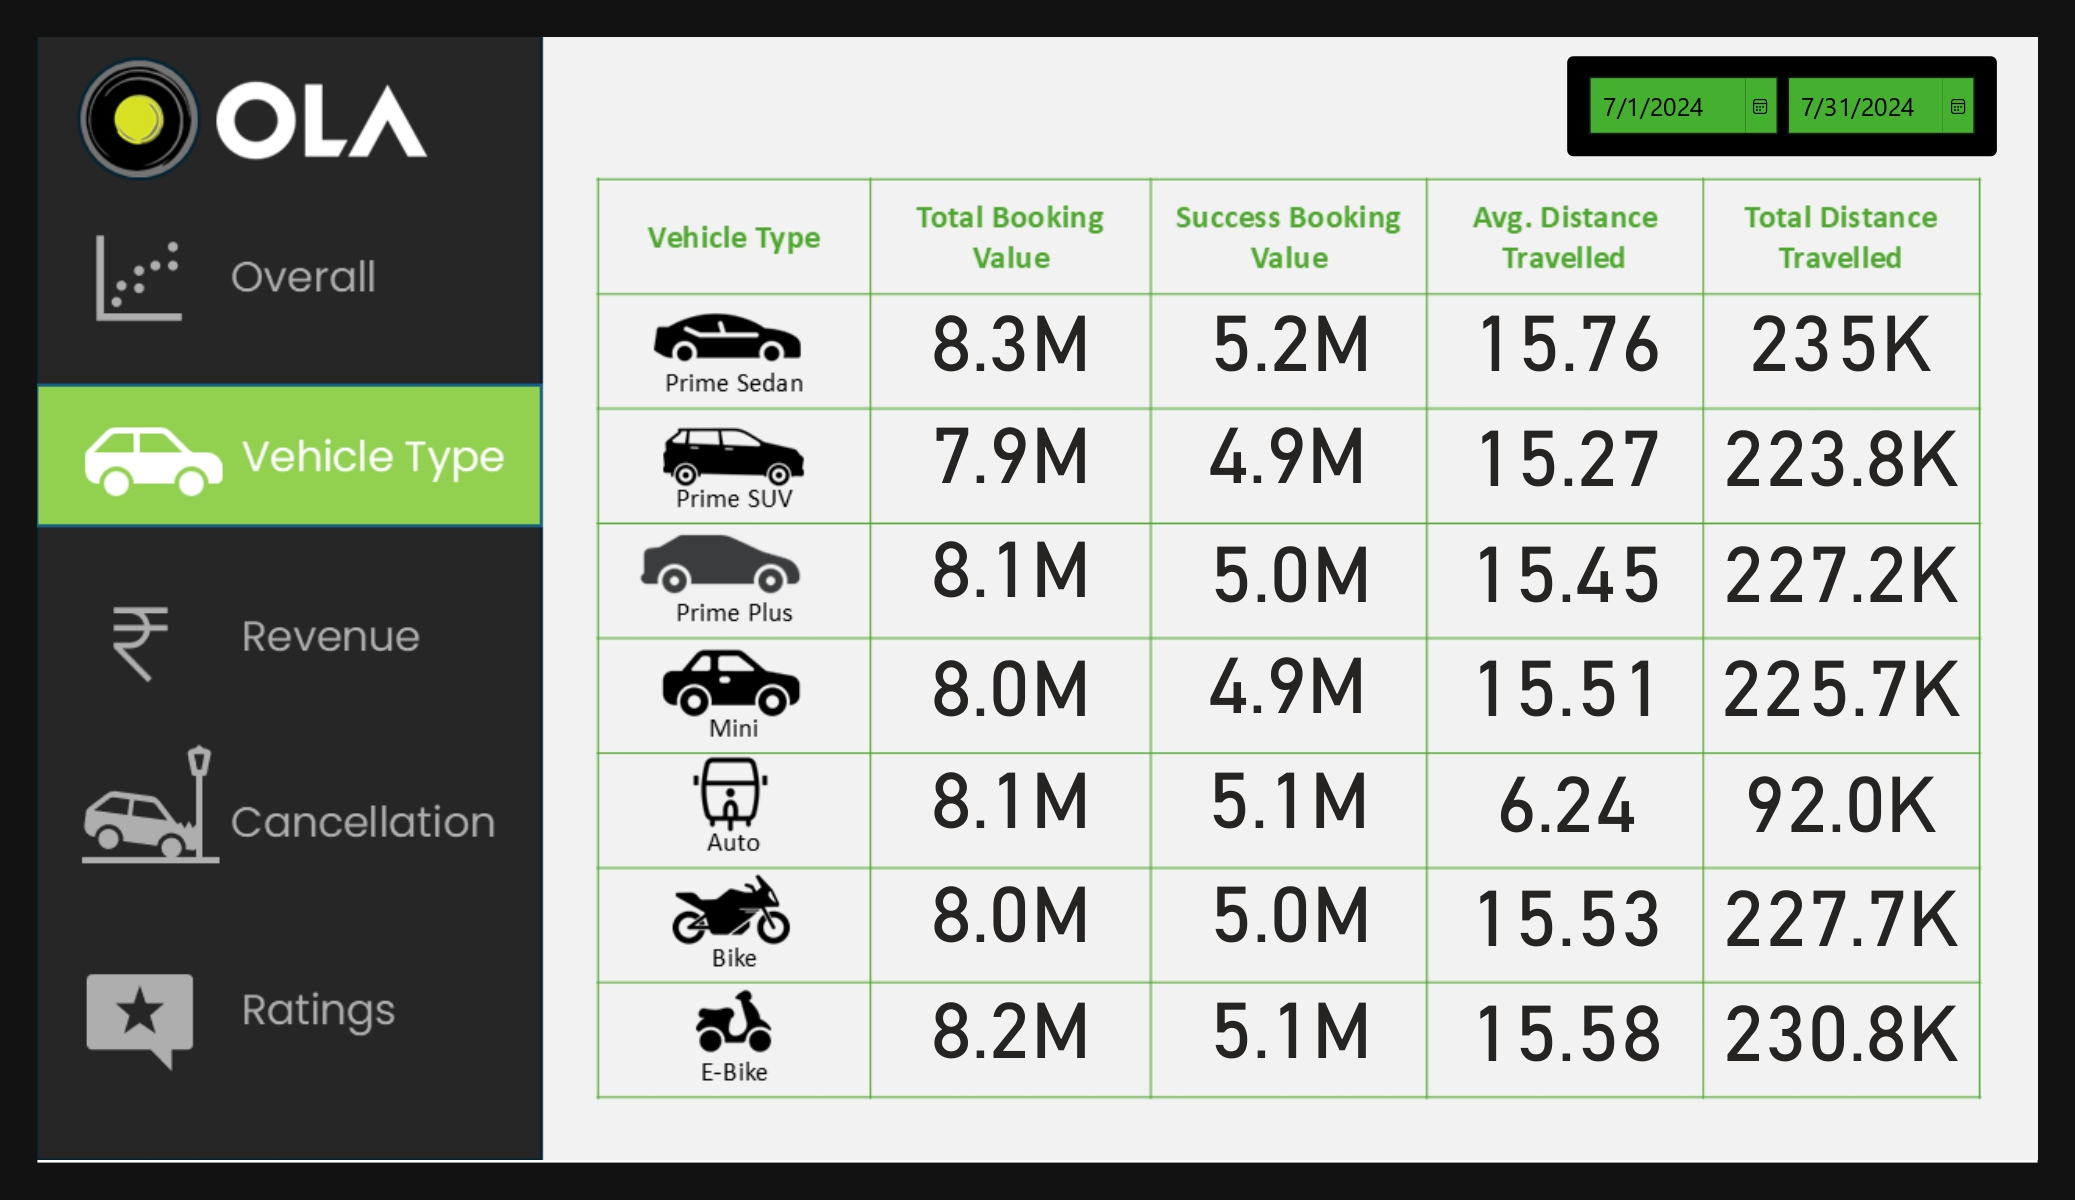

What the dashboard file says about the page in this screenshot:
{"tool":"powerbi","page":{"name":"vehicle type","canvas":[1280,720],"ordinal":2},"visuals":[{"type":"actionButton","box":[0,105.5,322.7,90.8],"z":0},{"type":"actionButton","box":[0,339.9,322.7,90.8],"z":1000},{"type":"actionButton","box":[1.2,446.6,322.7,90.8],"z":2000},{"type":"actionButton","box":[0,576.7,322.7,90.8],"z":3000},{"type":"card","fields":{"Values":["Sum(July.Booking_Value)"]},"box":[535.2,164.7,175.6,70],"z":4000},{"type":"card","fields":{"Values":["Sum(July.Booking_Value)"]},"box":[535.2,237.4,175.6,70],"z":5000},{"type":"card","fields":{"Values":["Sum(July.Booking_Value)"]},"box":[535.2,310.1,175.6,70],"z":6000},{"type":"card","fields":{"Values":["Sum(July.Booking_Value)"]},"box":[535.2,385.6,175.6,70],"z":7000},{"type":"card","fields":{"Values":["Sum(July.Booking_Value)"]},"box":[535.2,458.3,175.6,70],"z":8000},{"type":"card","fields":{"Values":["Sum(July.Booking_Value)"]},"box":[535.2,531,175.6,70],"z":9000},{"type":"card","fields":{"Values":["Sum(July.Booking_Value)"]},"box":[535.2,605.1,175.6,70],"z":10000},{"type":"card","fields":{"Values":["Sum(July.Booking_Value)"]},"box":[713.6,164.7,175.6,70],"z":11000},{"type":"card","fields":{"Values":["Sum(July.Booking_Value)"]},"box":[712.2,237.4,175.6,70],"z":12000},{"type":"card","fields":{"Values":["Sum(July.Booking_Value)"]},"box":[713.6,312.9,175.6,70],"z":13000},{"type":"card","fields":{"Values":["Sum(July.Booking_Value)"]},"box":[712.2,384.2,175.6,70],"z":14000},{"type":"card","fields":{"Values":["Sum(July.Booking_Value)"]},"box":[712.2,458.3,175.6,70],"z":15000},{"type":"card","fields":{"Values":["Sum(July.Booking_Value)"]},"box":[713.6,531,175.6,70],"z":16000},{"type":"card","fields":{"Values":["Sum(July.Booking_Value)"]},"box":[713.6,605.1,175.6,70],"z":17000},{"type":"card","fields":{"Values":["Avg(July.Ride_Distance)"]},"box":[891,163.3,175.6,70],"z":18000},{"type":"card","fields":{"Values":["Avg(July.Ride_Distance)"]},"box":[890.6,237.4,175.6,70],"z":19000},{"type":"card","fields":{"Values":["Avg(July.Ride_Distance)"]},"box":[890.6,311.5,175.6,70],"z":20000},{"type":"card","fields":{"Values":["Avg(July.Ride_Distance)"]},"box":[890.6,384.2,175.6,70],"z":21000},{"type":"card","fields":{"Values":["Avg(July.Ride_Distance)"]},"box":[890.6,458.3,175.6,70],"z":22000},{"type":"card","fields":{"Values":["Avg(July.Ride_Distance)"]},"box":[890.6,531,175.6,70],"z":23000},{"type":"card","fields":{"Values":["Avg(July.Ride_Distance)"]},"box":[890.6,605.1,175.6,70],"z":24000},{"type":"card","fields":{"Values":["Sum(July.Ride_Distance)"]},"box":[1066.2,163.3,175.6,70],"z":25000},{"type":"card","fields":{"Values":["Sum(July.Ride_Distance)"]},"box":[1066.2,237.4,175.6,70],"z":26000},{"type":"card","fields":{"Values":["Sum(July.Ride_Distance)"]},"box":[1066.2,311.5,175.6,70],"z":27000},{"type":"card","fields":{"Values":["Sum(July.Ride_Distance)"]},"box":[1066.2,384.2,175.6,70],"z":28000},{"type":"card","fields":{"Values":["Sum(July.Ride_Distance)"]},"box":[1066.2,458.3,175.6,70],"z":29000},{"type":"card","fields":{"Values":["Sum(July.Ride_Distance)"]},"box":[1066.2,531,175.6,70],"z":30000},{"type":"card","fields":{"Values":["Sum(July.Ride_Distance)"]},"box":[1066.2,605.1,175.6,70],"z":31000},{"type":"slicer","title":"Date","fields":{"Values":["July.Date"]},"box":[978.6,12.5,275.4,63.7],"z":32000}]}

Visuals, with their boxes on the page's 1280x720 design canvas (x1, y1, x2, y2). These are canvas units, not pixel positions in the 2075x1200 screenshot, which may show the page scaled, cropped or inside an application window:
actionButton: x1=0 y1=106 x2=323 y2=196
actionButton: x1=0 y1=340 x2=323 y2=431
actionButton: x1=1 y1=447 x2=324 y2=537
actionButton: x1=0 y1=577 x2=323 y2=668
card - Sum(July.Booking_Value): x1=535 y1=165 x2=711 y2=235
card - Sum(July.Booking_Value): x1=535 y1=237 x2=711 y2=307
card - Sum(July.Booking_Value): x1=535 y1=310 x2=711 y2=380
card - Sum(July.Booking_Value): x1=535 y1=386 x2=711 y2=456
card - Sum(July.Booking_Value): x1=535 y1=458 x2=711 y2=528
card - Sum(July.Booking_Value): x1=535 y1=531 x2=711 y2=601
card - Sum(July.Booking_Value): x1=535 y1=605 x2=711 y2=675
card - Sum(July.Booking_Value): x1=714 y1=165 x2=889 y2=235
card - Sum(July.Booking_Value): x1=712 y1=237 x2=888 y2=307
card - Sum(July.Booking_Value): x1=714 y1=313 x2=889 y2=383
card - Sum(July.Booking_Value): x1=712 y1=384 x2=888 y2=454
card - Sum(July.Booking_Value): x1=712 y1=458 x2=888 y2=528
card - Sum(July.Booking_Value): x1=714 y1=531 x2=889 y2=601
card - Sum(July.Booking_Value): x1=714 y1=605 x2=889 y2=675
card - Avg(July.Ride_Distance): x1=891 y1=163 x2=1067 y2=233
card - Avg(July.Ride_Distance): x1=891 y1=237 x2=1066 y2=307
card - Avg(July.Ride_Distance): x1=891 y1=312 x2=1066 y2=382
card - Avg(July.Ride_Distance): x1=891 y1=384 x2=1066 y2=454
card - Avg(July.Ride_Distance): x1=891 y1=458 x2=1066 y2=528
card - Avg(July.Ride_Distance): x1=891 y1=531 x2=1066 y2=601
card - Avg(July.Ride_Distance): x1=891 y1=605 x2=1066 y2=675
card - Sum(July.Ride_Distance): x1=1066 y1=163 x2=1242 y2=233
card - Sum(July.Ride_Distance): x1=1066 y1=237 x2=1242 y2=307
card - Sum(July.Ride_Distance): x1=1066 y1=312 x2=1242 y2=382
card - Sum(July.Ride_Distance): x1=1066 y1=384 x2=1242 y2=454
card - Sum(July.Ride_Distance): x1=1066 y1=458 x2=1242 y2=528
card - Sum(July.Ride_Distance): x1=1066 y1=531 x2=1242 y2=601
card - Sum(July.Ride_Distance): x1=1066 y1=605 x2=1242 y2=675
"Date" slicer: x1=979 y1=12 x2=1254 y2=76
